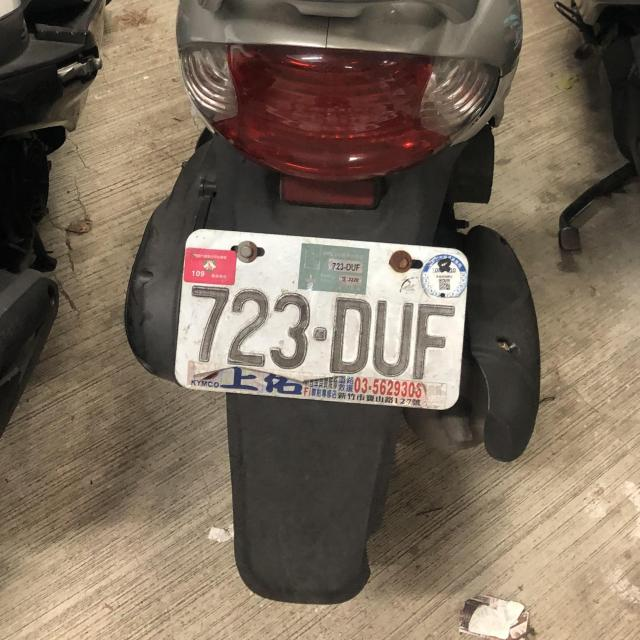W: (172, 224, 475, 413)
